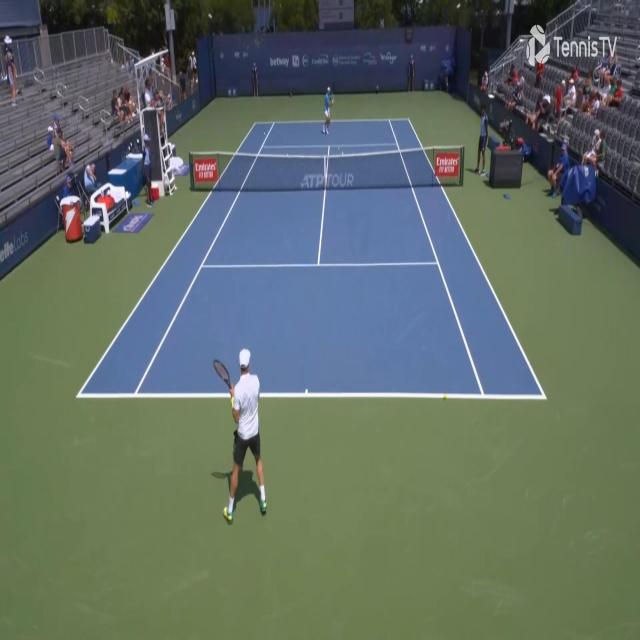tennis-player: (212, 344, 274, 527), (322, 83, 333, 134)
